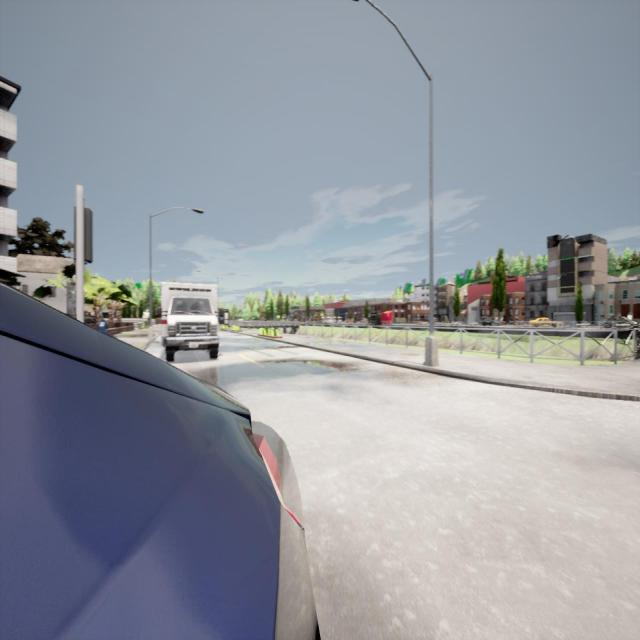Vehicle: (0, 285, 316, 637), (154, 281, 224, 360), (603, 314, 639, 329), (528, 316, 563, 328)
traffic_light: (75, 207, 93, 264)
